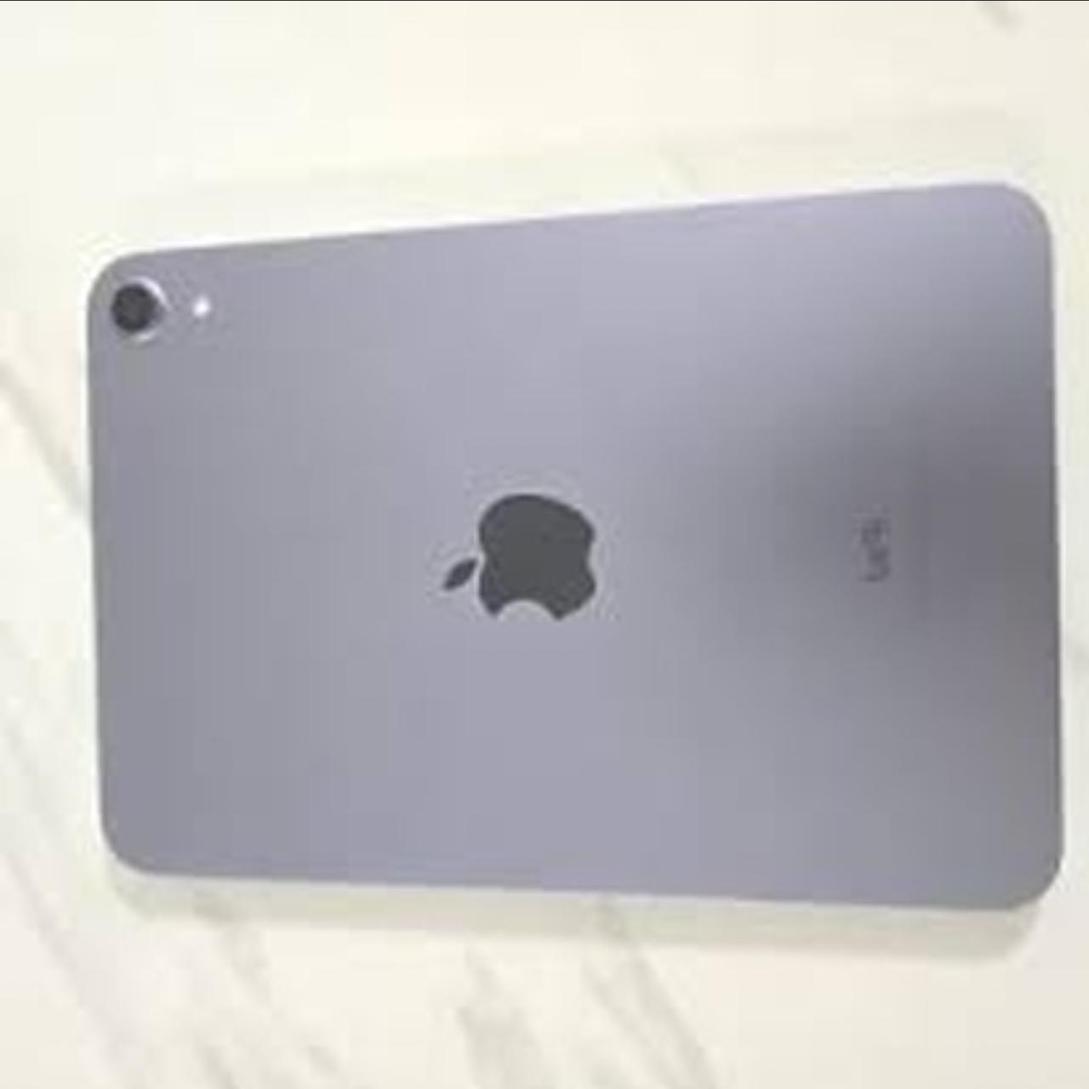Tablet_PC: (71, 160, 1071, 937)
